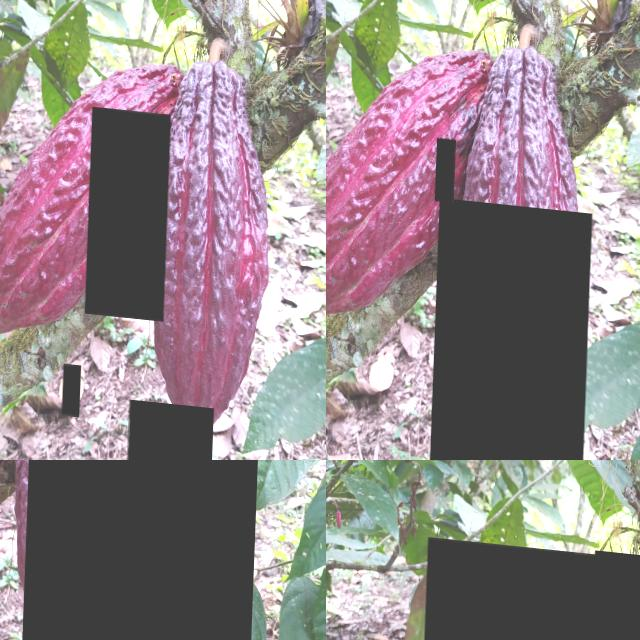Sana: (432, 191, 594, 460), (22, 460, 264, 640), (421, 533, 621, 640), (88, 101, 172, 315), (128, 393, 217, 460), (437, 132, 458, 196), (66, 359, 85, 412)
